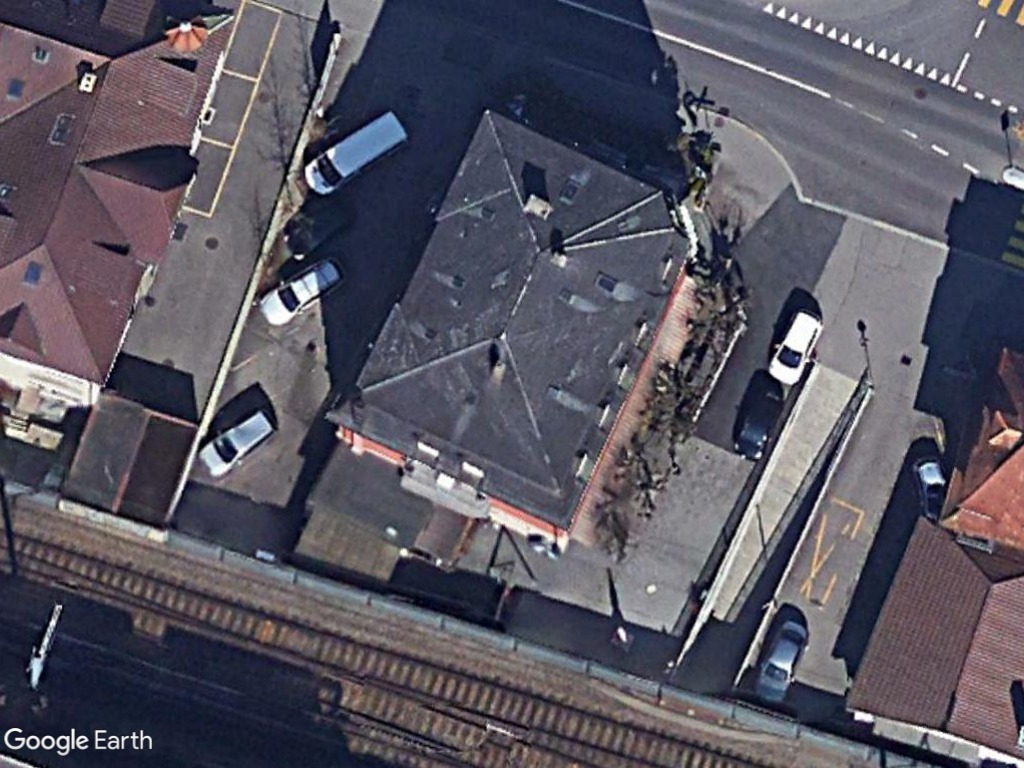car: (257, 254, 351, 329), (198, 409, 281, 478), (750, 618, 809, 708), (763, 309, 825, 387)
van: (301, 109, 412, 197)
